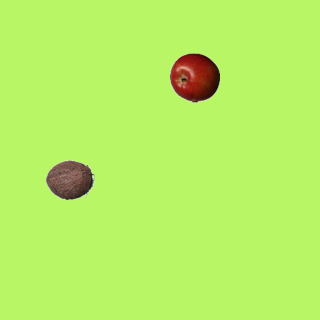Apple Braeburn: (169, 52, 219, 102)
Cocos: (44, 154, 94, 204)
